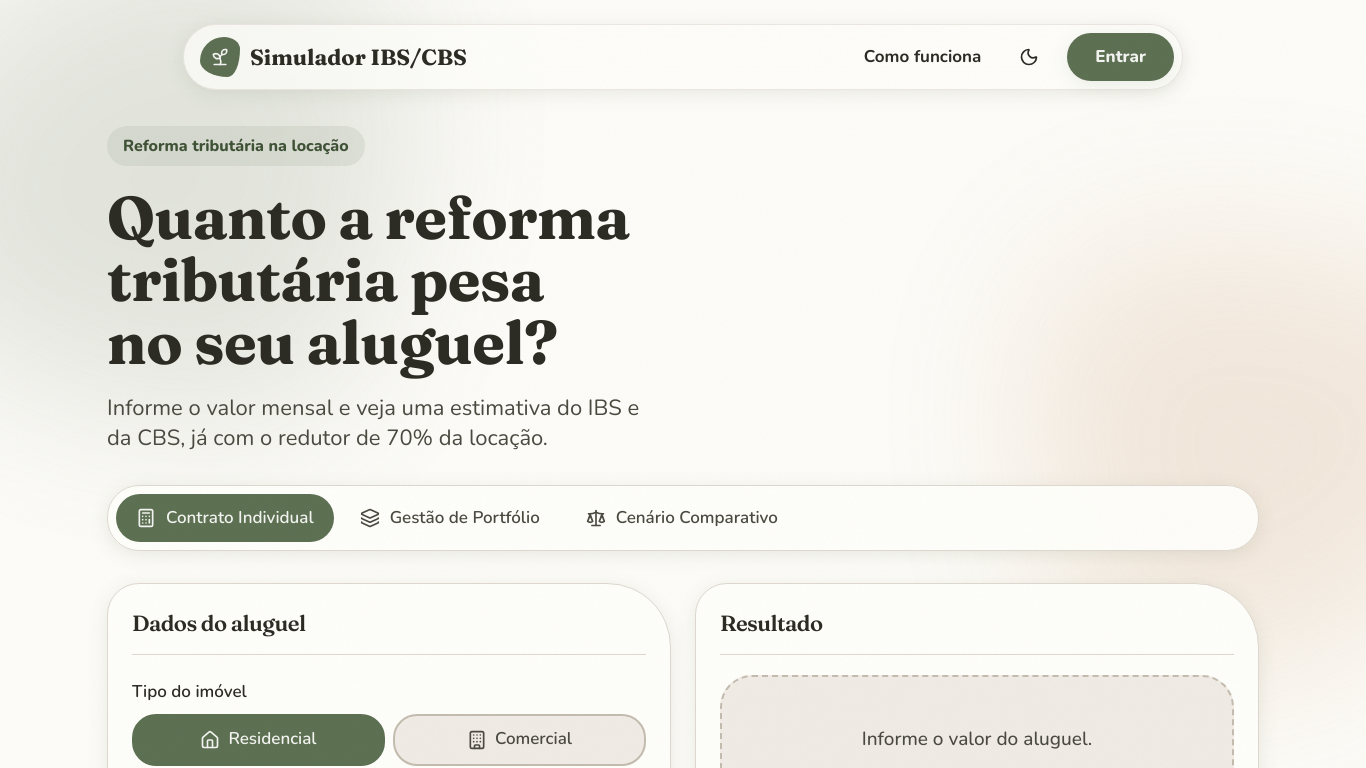
Test: Interface pública (locador assistido) › compara os regimes ao informar o aluguel na aba comparativa
Click the tab "Cenário Comparativo": [682, 518] box [566,494,798,542]
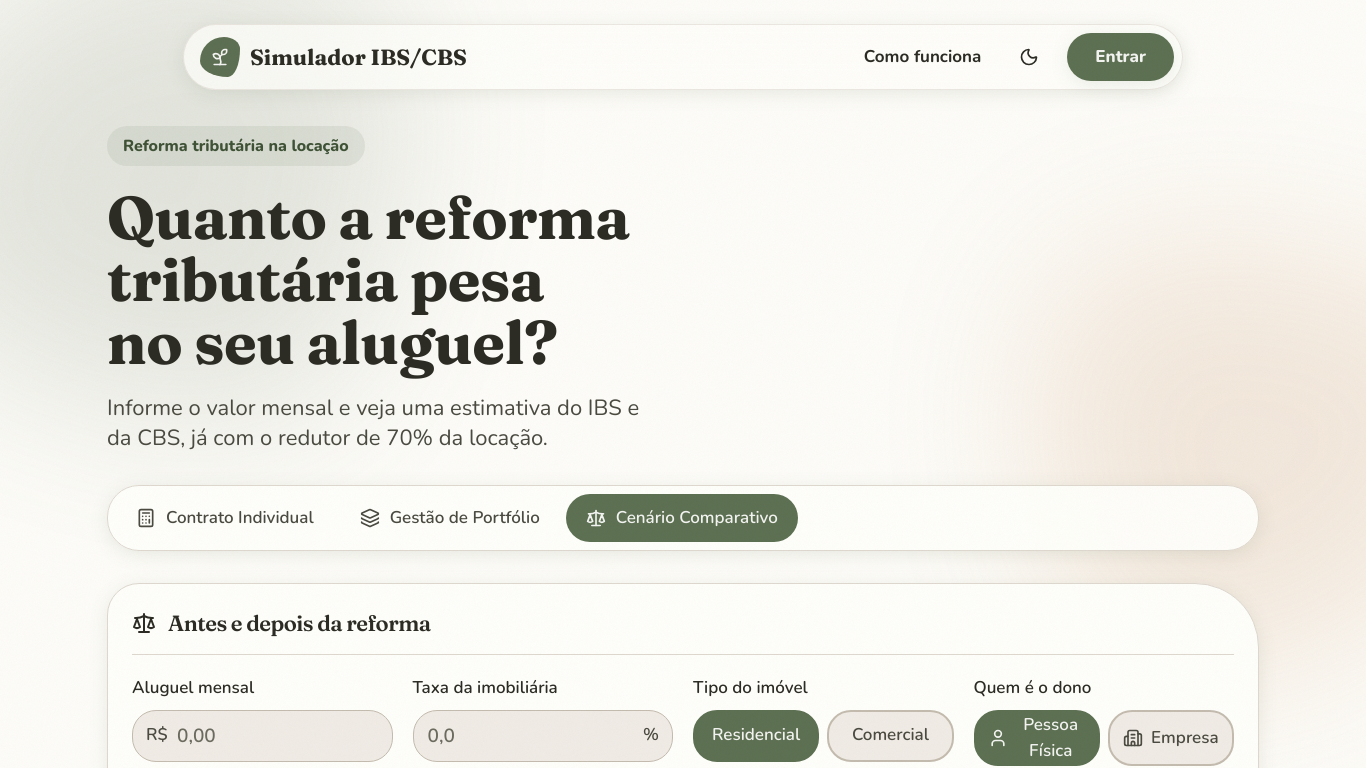
In the field labelled "Aluguel mensal": [262, 736] box [132,710,392,762], type "600000"
(page scrolled)
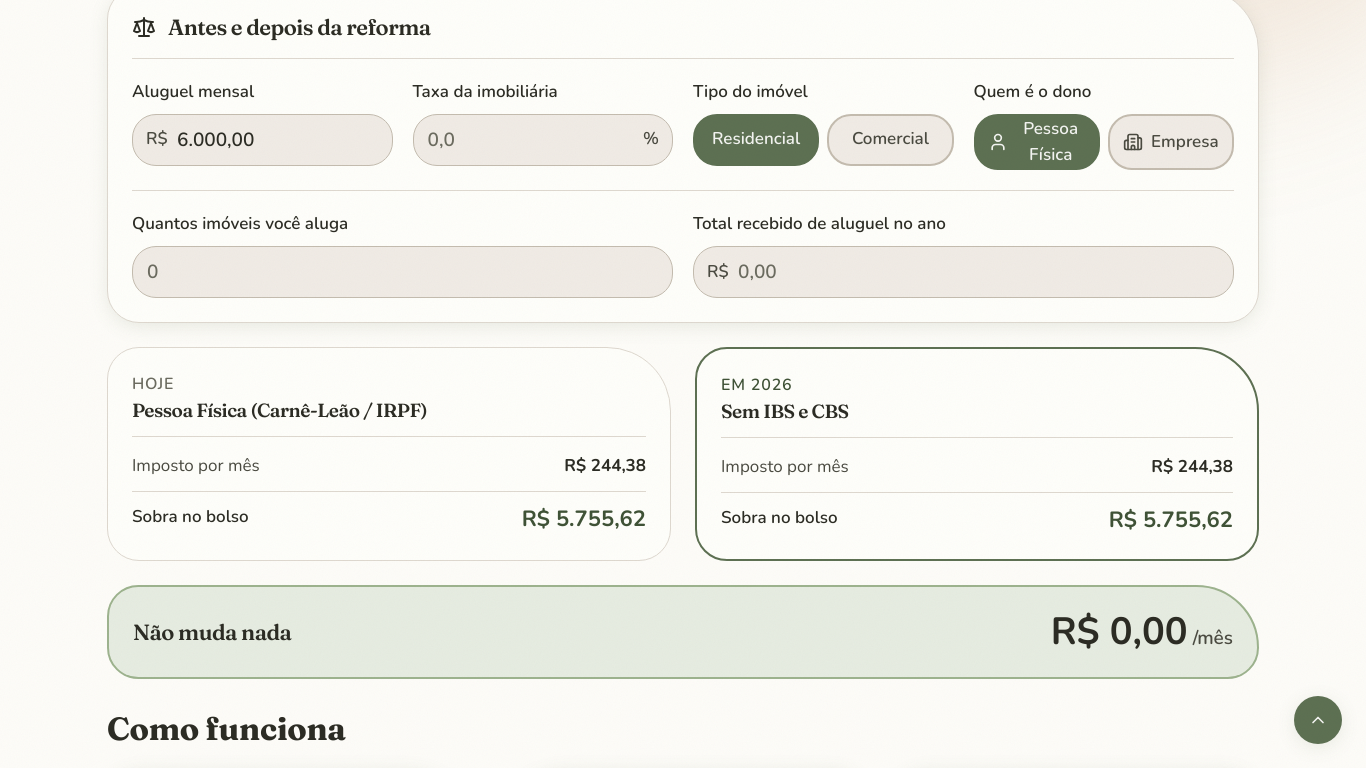
Now the text "Hoje" is shown, box [132,373,174,395]
Now the text "Em 2026" is shown, box [721,374,792,396]
